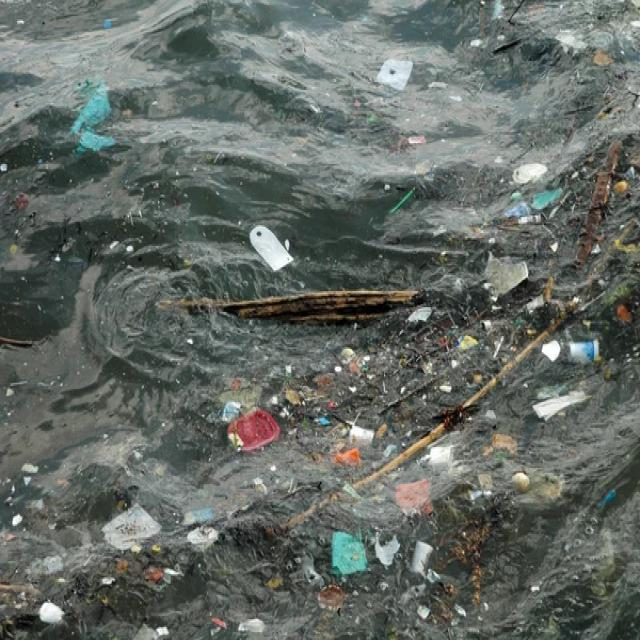garbage: (179, 161, 631, 607)
